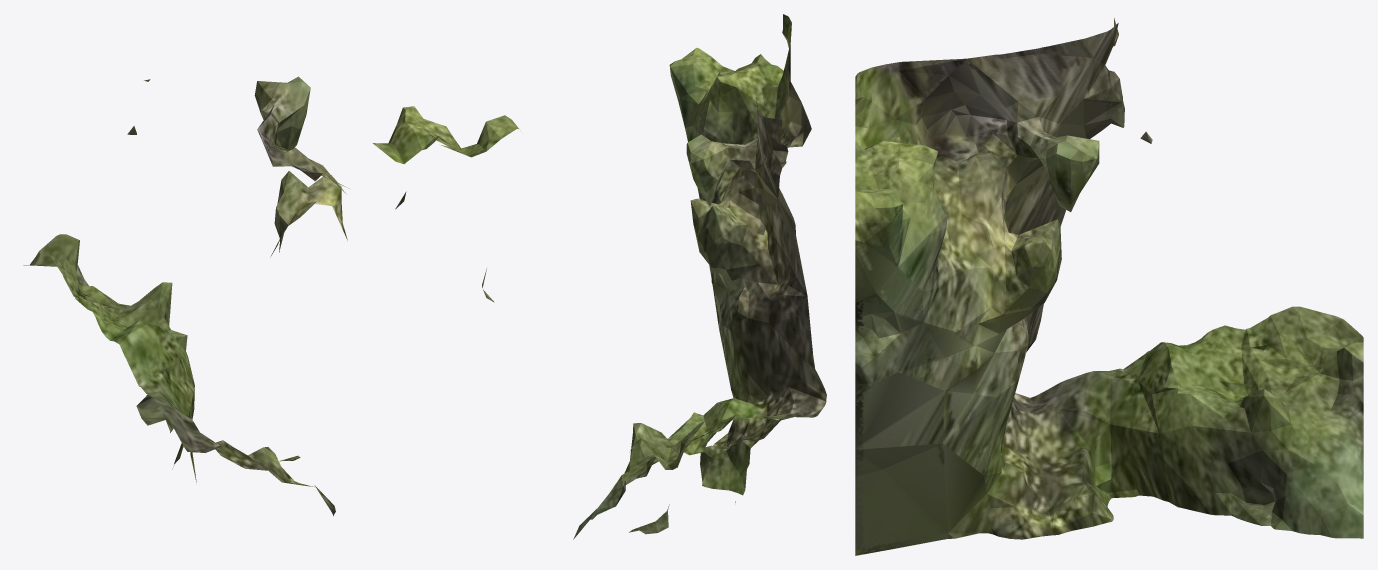
3 views of the same model, side by side, from view 1: azimuth 30°, elevation 25°; view 2: azimuth 150°, elevation 25°; view 3: azimuth 270°, elevation 25° (orthographic). The views are drawn at different scales.
Bounding box in the file's own units: 3.37 × 5.9 × 5.9.
3 materials, 3 textured.
